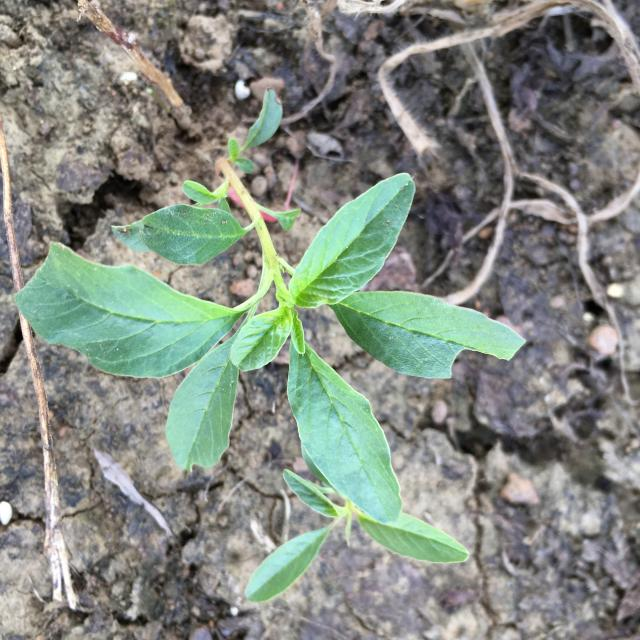Waterhemp: (13, 87, 526, 603)
